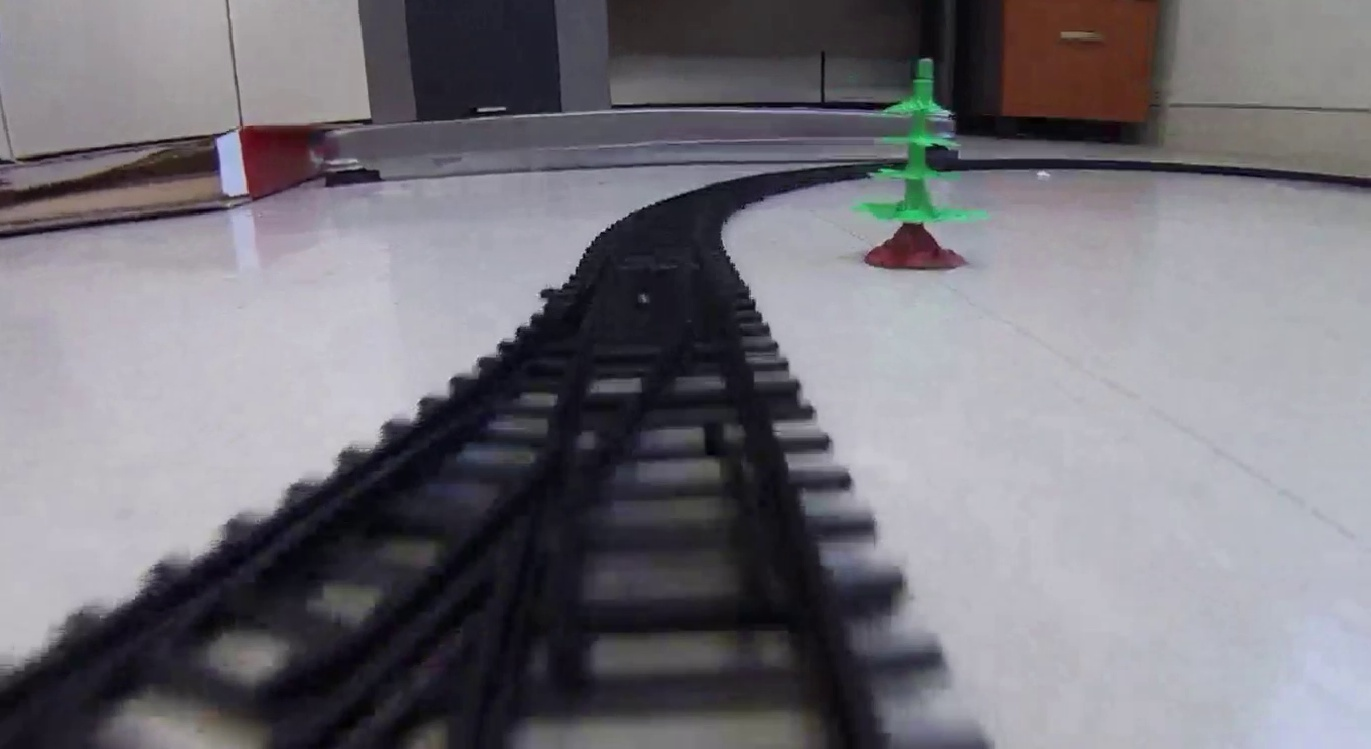tree: (855, 55, 984, 271)
